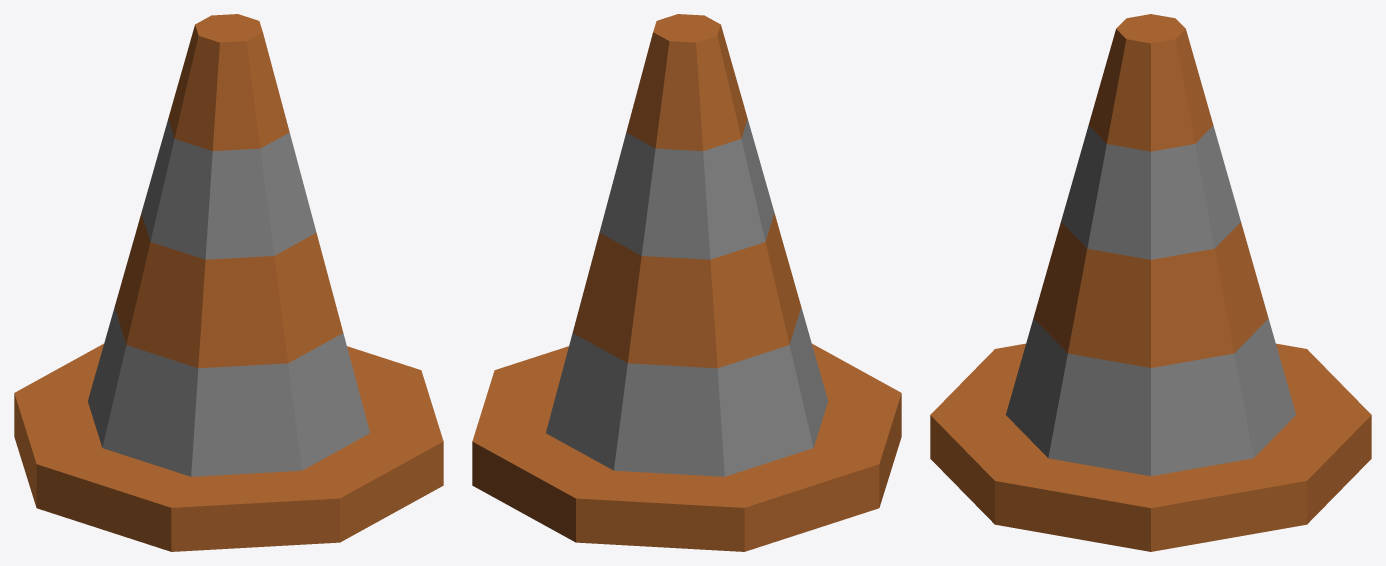
The model's file is Traffic_cone.fbx.
3 renders of one model, left to right at view 1: azimuth 30°, elevation 25°; view 2: azimuth 150°, elevation 25°; view 3: azimuth 270°, elevation 25°, orthographic.
Parts seen in each view (by area): view 1: Traffic_cone; view 2: Traffic_cone; view 3: Traffic_cone.
Part boxes in pixels (left/top/right/bottom): Traffic_cone: left=14, top=14, right=443, bottom=551; Traffic_cone: left=472, top=14, right=901, bottom=551; Traffic_cone: left=930, top=14, right=1371, bottom=551.
Bounding box in the file's own units: 91.89 × 98.78 × 91.89.
